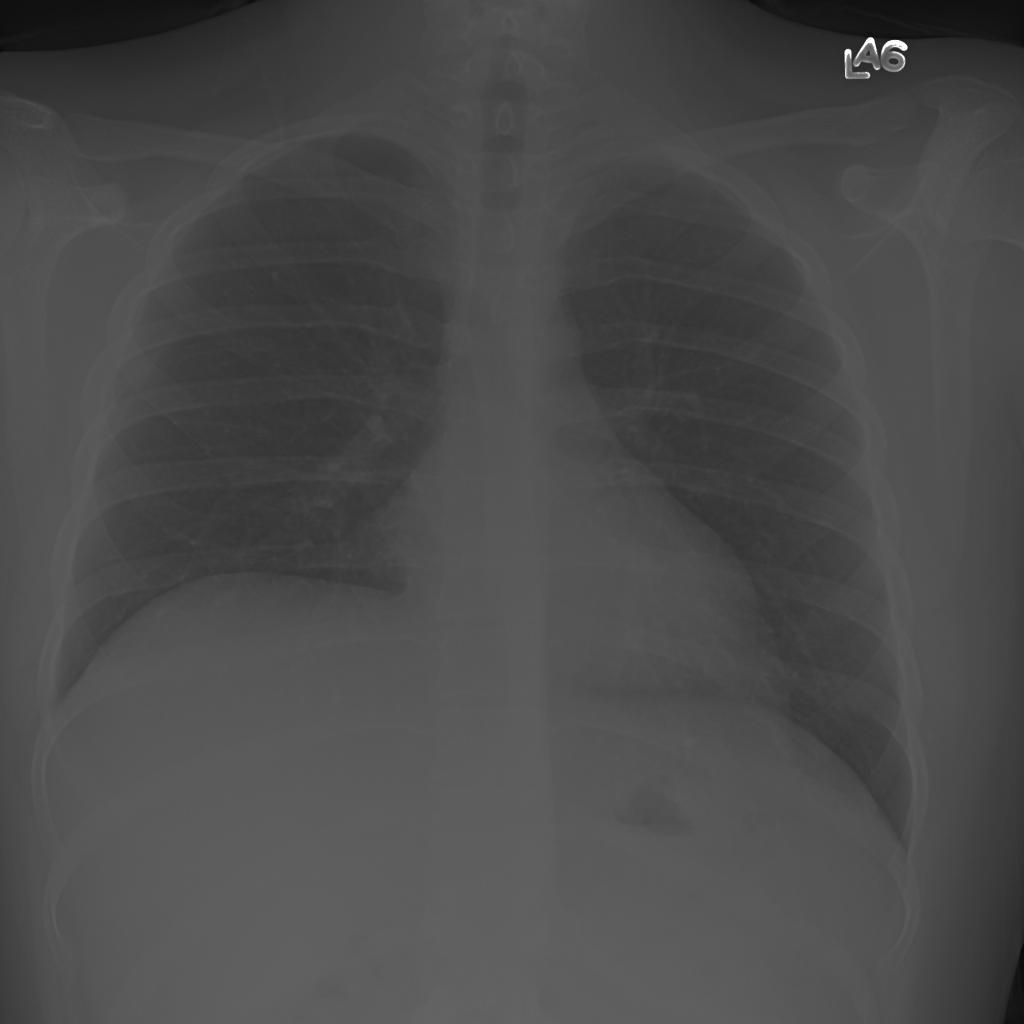Nodule: (287, 296, 341, 344)
